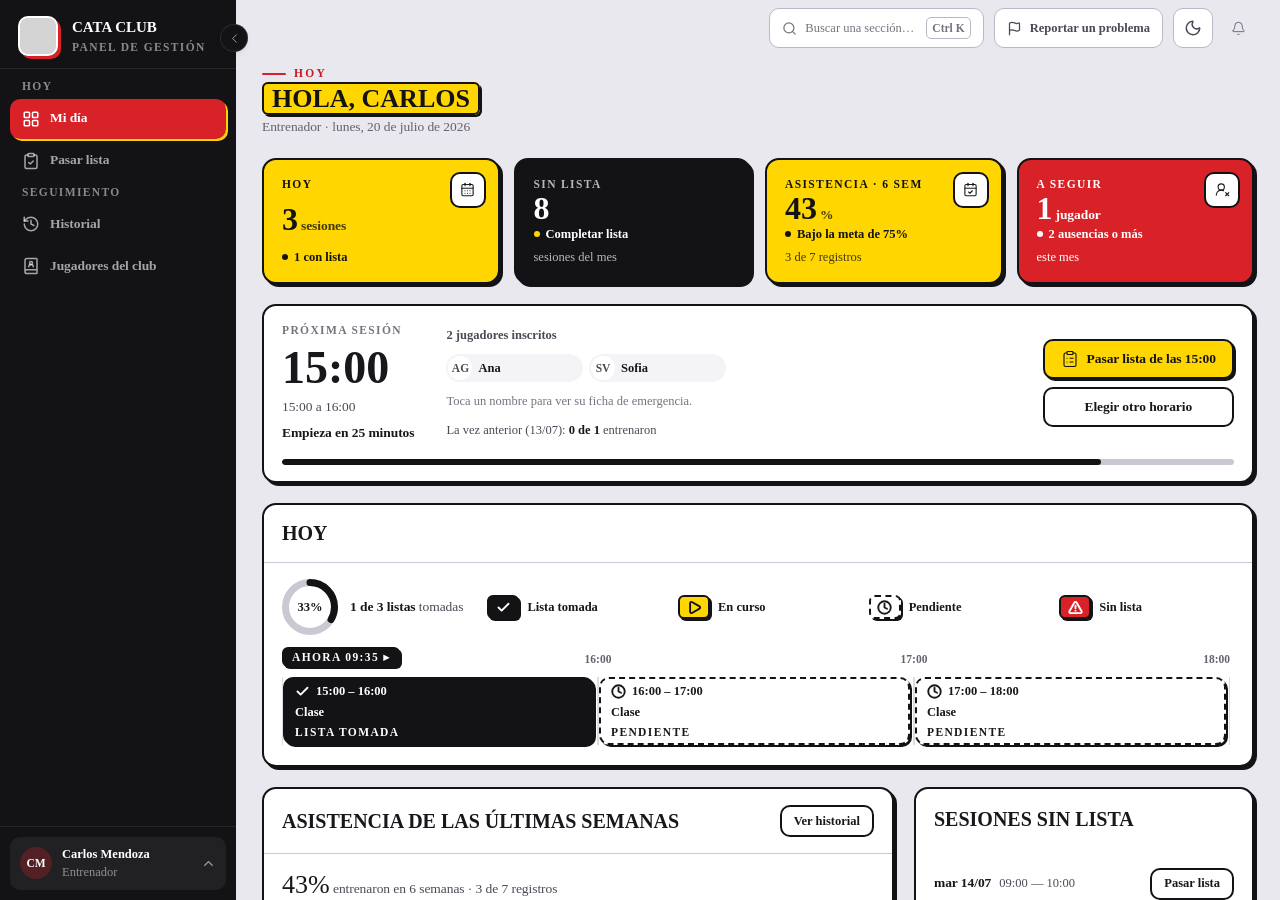
TrainerPage — Mi día › 'next': each enrolled student opens their emergency card from Mi día (QA4 ENT-27)
Click the button with aria-label "Ficha de emergencia de Sofia Vera" at (657, 368), box [589,354,726,382]
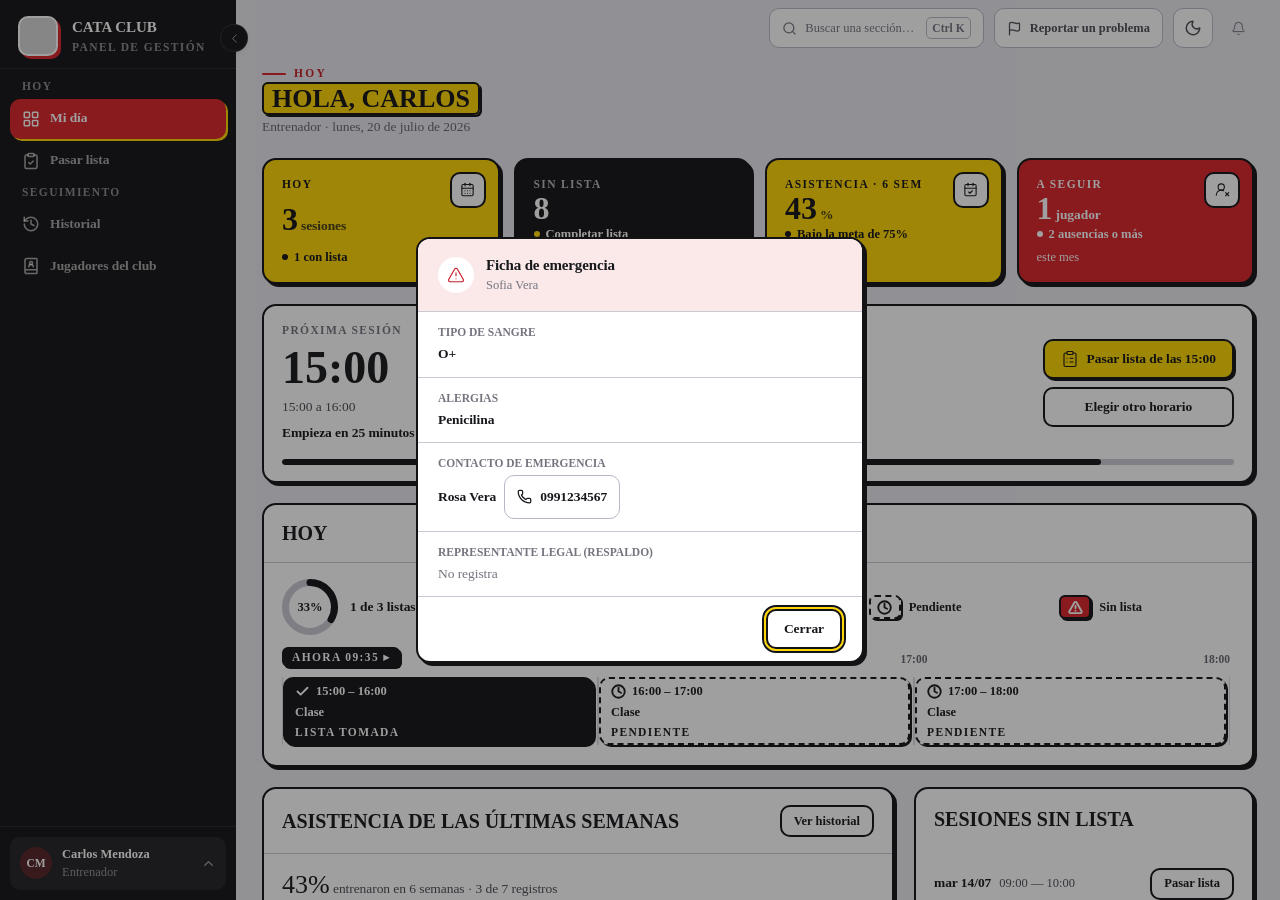
expect the dialog is shown: met, box [416,237,864,663]
expect the text "Penicilina" is shown: met, box [438,412,494,427]
